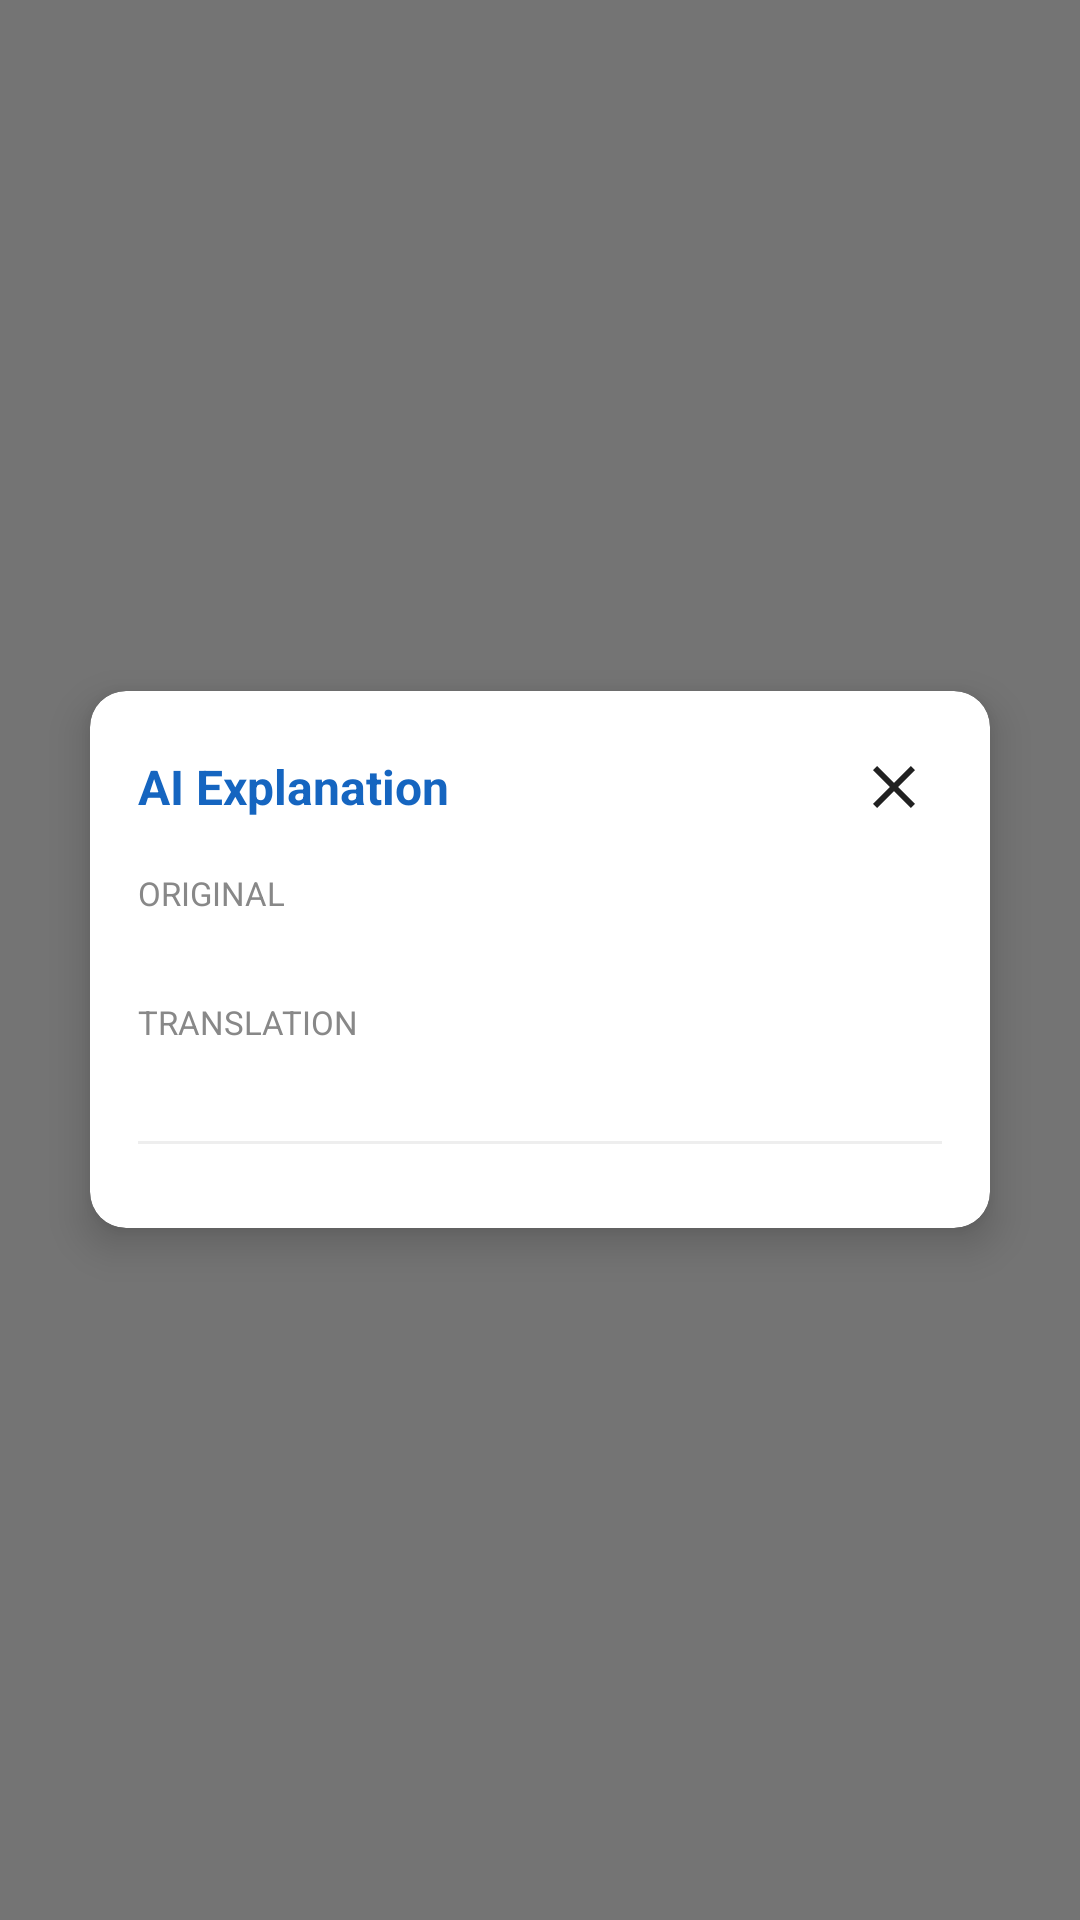

Point at icon controls on the screen. Image size 1080 × 1920, points as (x=x, y=y).
Close: (x=894, y=787)
